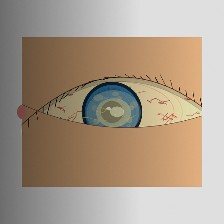corneal_ulcer: (85, 90, 142, 136)
